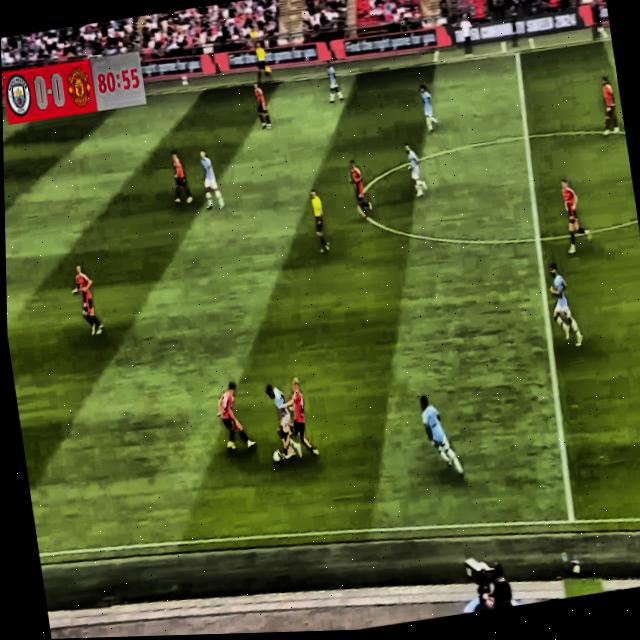ball: (269, 444, 284, 475)
players: (416, 384, 466, 483), (209, 371, 257, 460), (544, 257, 587, 353), (279, 374, 322, 465), (557, 173, 598, 262), (64, 255, 106, 340), (264, 379, 305, 463), (347, 151, 381, 229), (163, 143, 195, 210), (401, 131, 431, 202), (196, 145, 225, 213), (596, 73, 622, 140), (417, 74, 442, 138), (249, 77, 273, 133), (321, 53, 345, 109)
refree: (306, 183, 334, 260), (249, 36, 276, 83)
